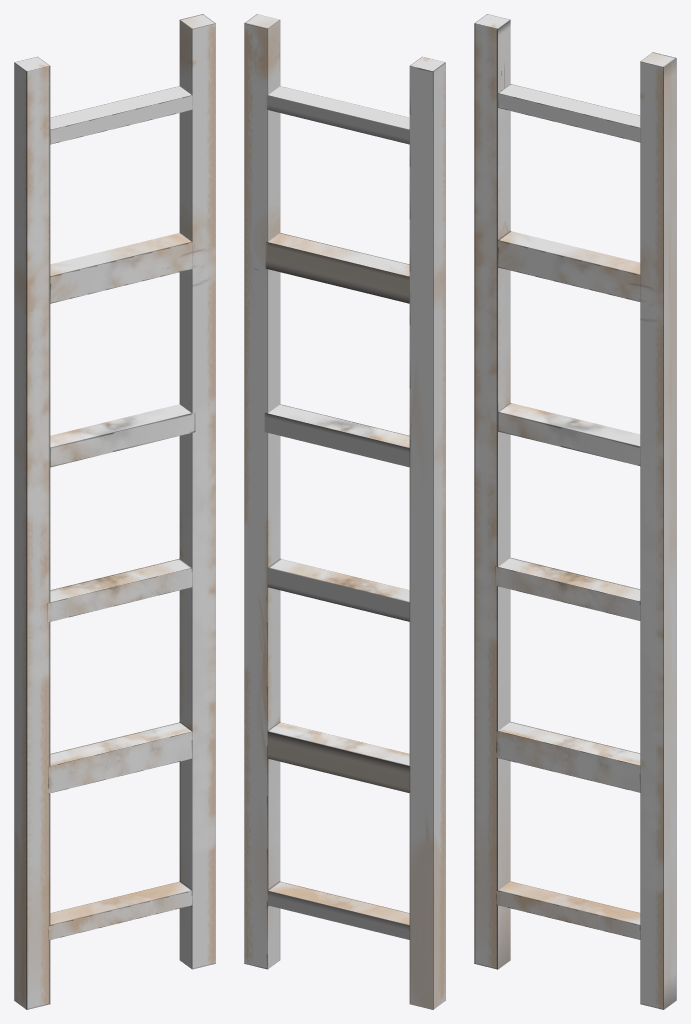
The model's file is Ladder.FBX.
The picture shows the model from 3 angles, left to right: view 1: azimuth 30°, elevation 25°; view 2: azimuth 150°, elevation 25°; view 3: azimuth 330°, elevation 25°; orthographic projection.
Parts seen in each view (by area): view 1: Box024, Box023; view 2: Box024, Box023; view 3: Box023, Box024.
Part boxes in pixels (x1,y1,x2,y2): Box024: (14,56,195,1009); Box023: (47,14,215,969); Box024: (264,56,445,1009); Box023: (244,14,411,969); Box023: (495,52,676,1009); Box024: (474,14,641,969).
Bounding box in the file's own units: 54.59 × 260 × 6.31.
